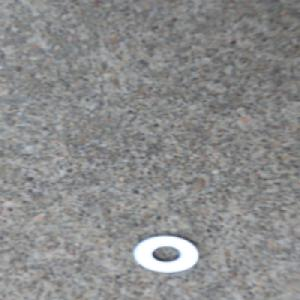Washer: (130, 232, 202, 273)
